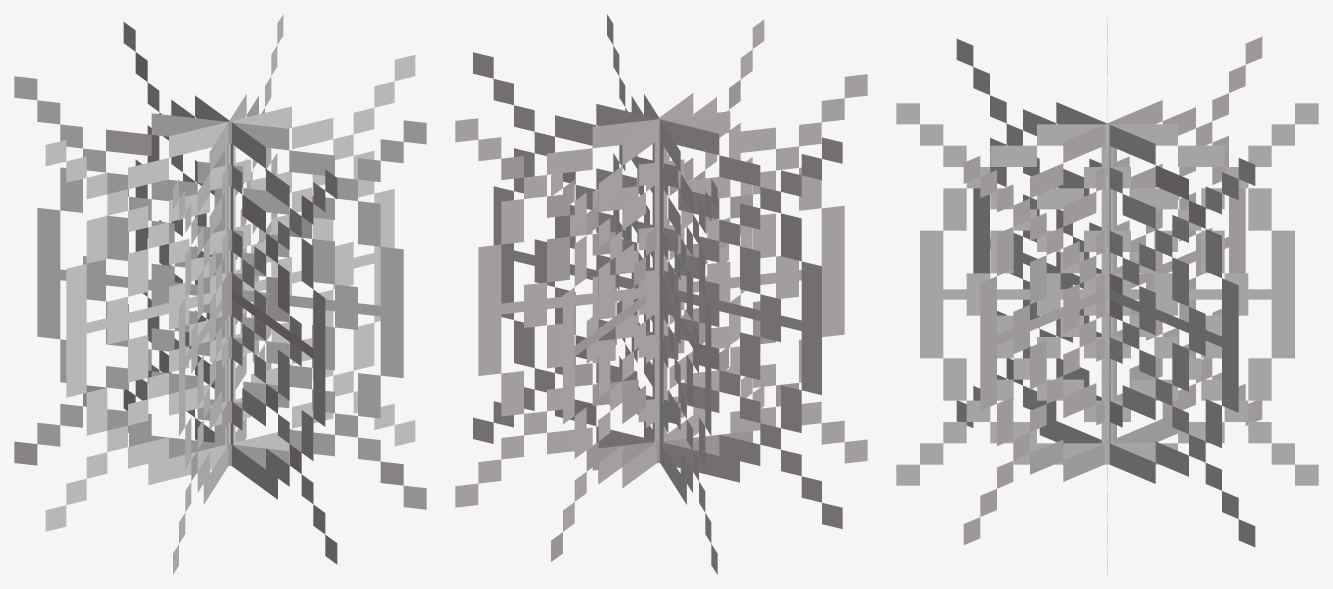
3 renders of one model, left to right at view 1: azimuth 30°, elevation 25°; view 2: azimuth 150°, elevation 25°; view 3: azimuth 270°, elevation 25°, orthographic.
Visible parts, largest first — view 1: cube (×66); view 2: cube (×68); view 3: cube (×59).
Part boxes in pixels (x1,y1,x2,y2): cube (×66): (14,76,426,509); cube (×68): (455,74,867,507); cube (×59): (920,100,1294,483).
Bounding box in the file's own units: 1.12 × 1.12 × 1.12.
Materials: 1 (1 with a texture image).
